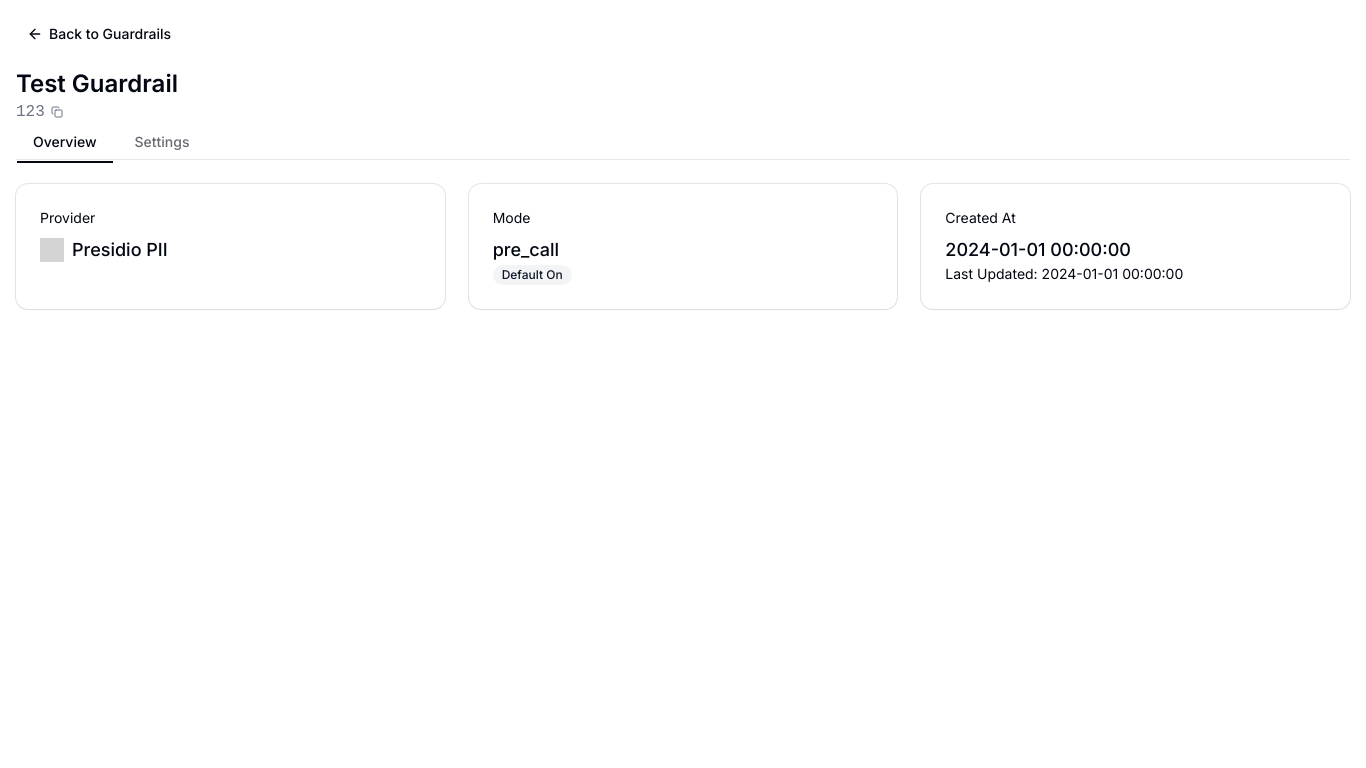
Test case: Guardrail Info › should not render the edit button for config guardrails
This screenshot has width=1366, height=768.
# Click the Settings tab
Step 1. Click the tab "Settings" → (162, 142), box top-left (118, 124), bottom-right (206, 158)
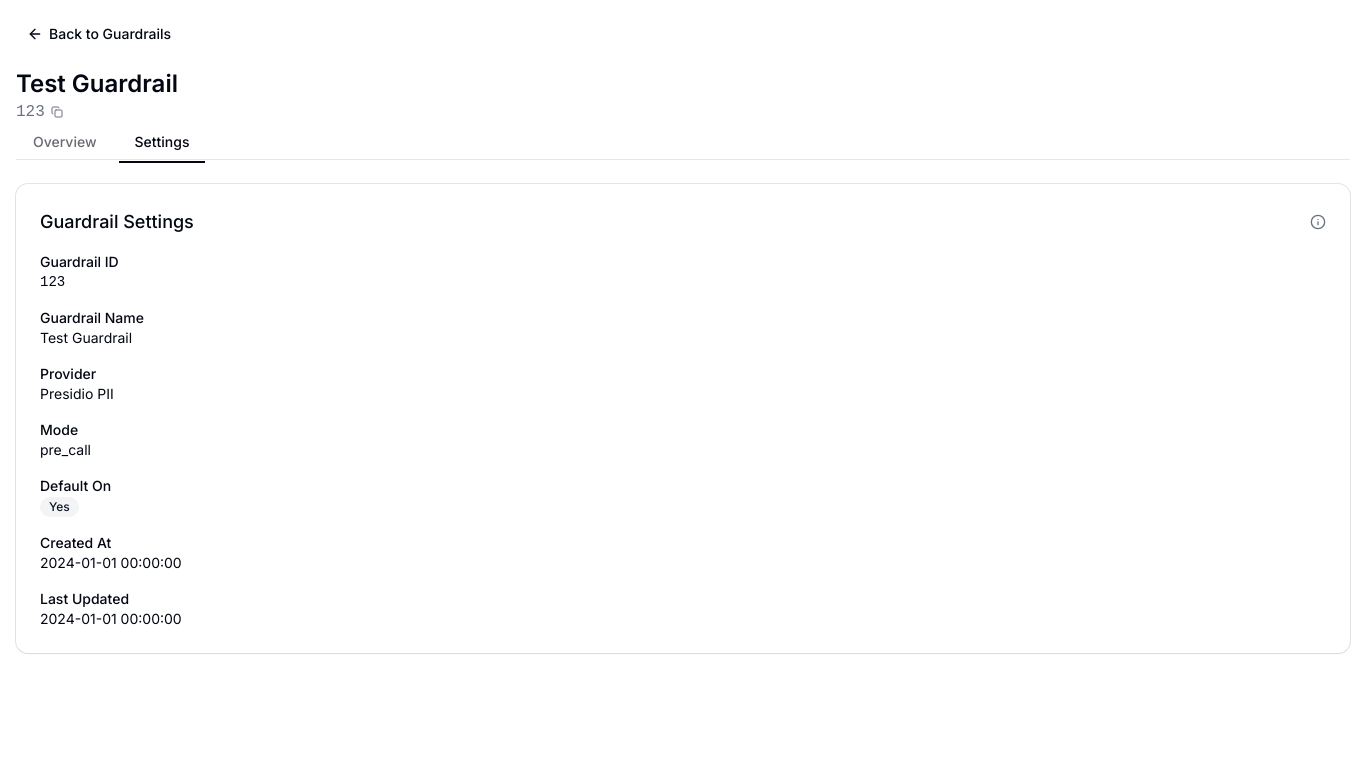
Expected: the heading "Guardrail Settings" is shown, top-left (40, 208), bottom-right (194, 236)
Step 2. Hover over the picture named "Config guardrail details" → (1318, 222), box top-left (1310, 214), bottom-right (1326, 230)
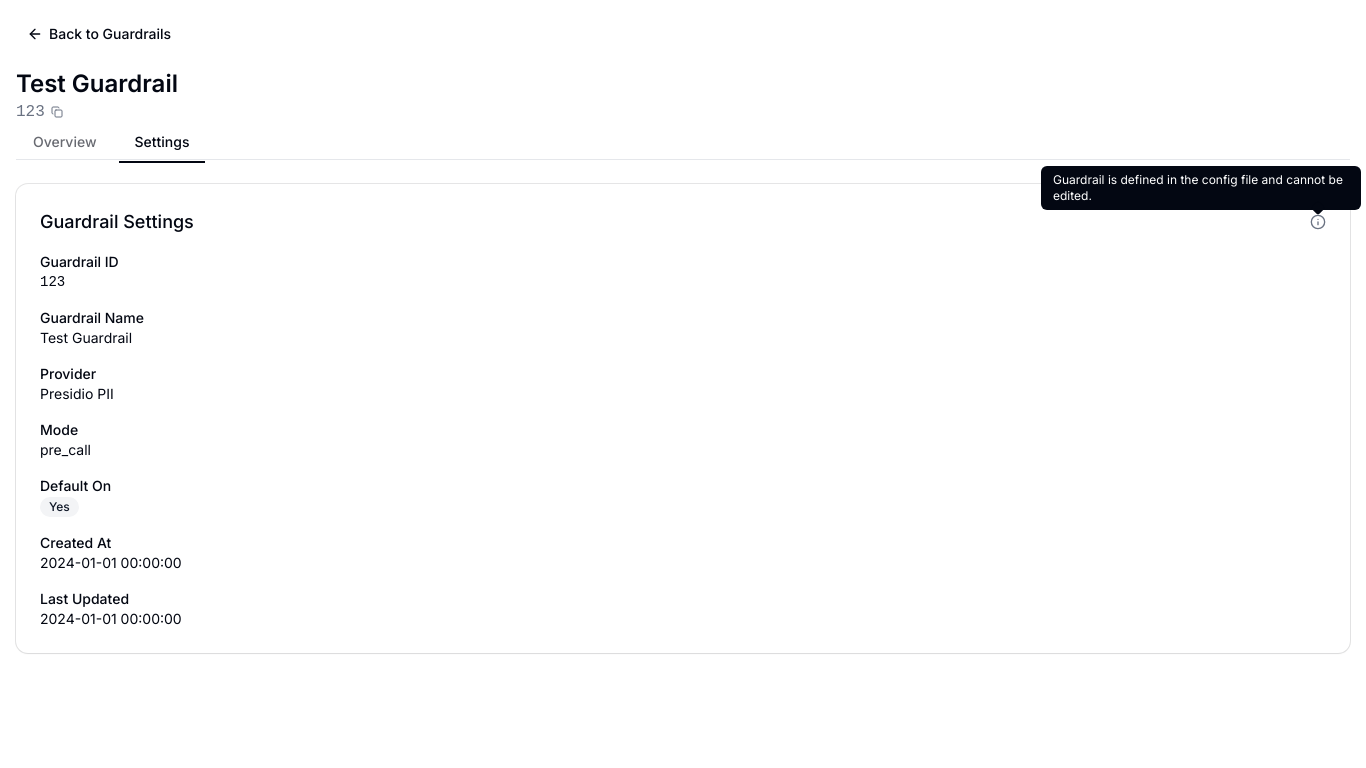
Expected: the text "Guardrail is defined in the config file and cannot be edited." is shown, top-left (1041, 166), bottom-right (1361, 210)
